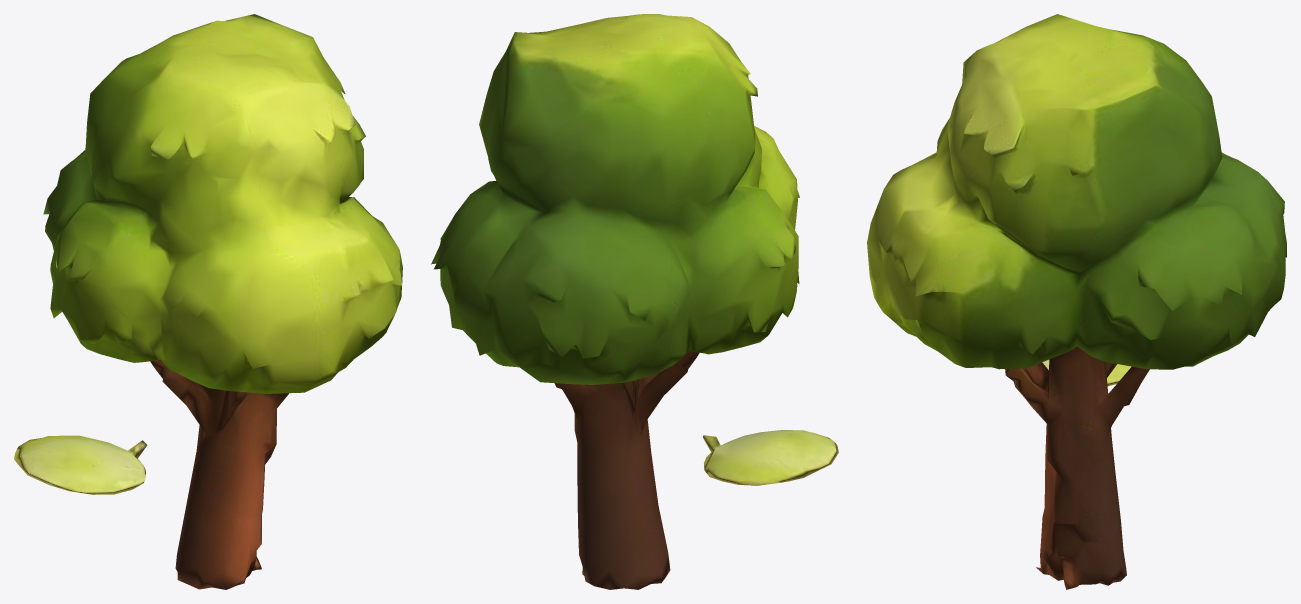
The model's file is tree_big.glb.
3 views of the same model, side by side, from view 1: azimuth 30°, elevation 25°; view 2: azimuth 150°, elevation 25°; view 3: azimuth 270°, elevation 25° (orthographic). The views are drawn at different scales.
Visible parts, largest first — view 1: tripo_node_01a21d09-1101-755e-8cb9-33e6197f4d57; view 2: tripo_node_01a21d09-1101-755e-8cb9-33e6197f4d57; view 3: tripo_node_01a21d09-1101-755e-8cb9-33e6197f4d57.
Part boxes in pixels (x1,y1,x2,y2): tripo_node_01a21d09-1101-755e-8cb9-33e6197f4d57: (14,14,402,589); tripo_node_01a21d09-1101-755e-8cb9-33e6197f4d57: (431,14,838,589); tripo_node_01a21d09-1101-755e-8cb9-33e6197f4d57: (867,14,1286,589).
Size of the model in its own units: 4.97 by 7.5 by 5.39.
1 material, 1 textured.
